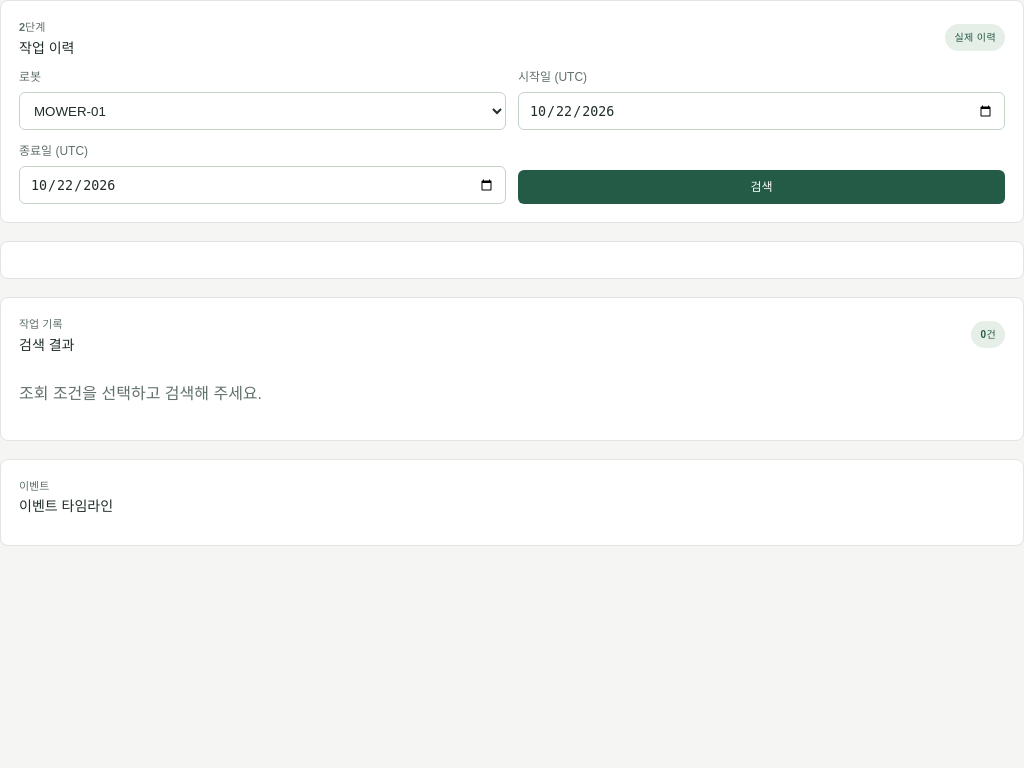
조회 오류와 빈 결과를 구분하고 재검색할 수 있다
Click the button "검색" at [762, 187], box [518, 170, 1005, 204]
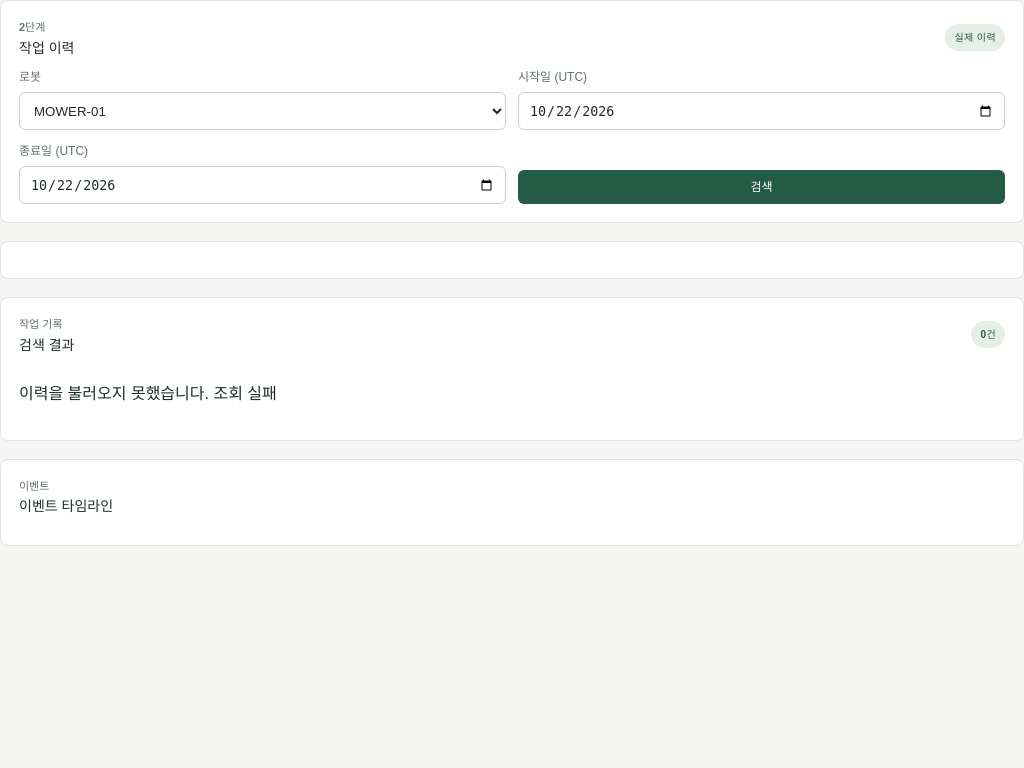
Expected: the text "선택한 조건에 맞는 작업 이력이 없습니다." is not shown
Result: the message shows "조회 실패" at [213, 385, 277, 402]
Click the button "검색" at [762, 187], box [518, 170, 1005, 204]
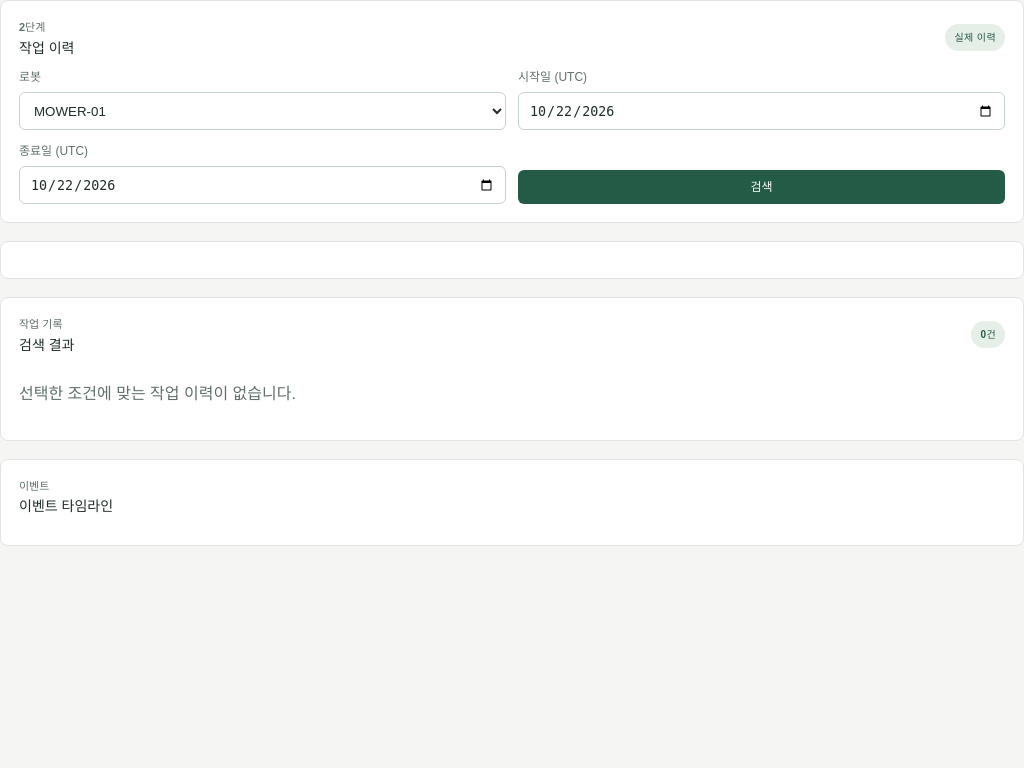
Result: the text "선택한 조건에 맞는 작업 이력이 없습니다." is shown at [19, 385, 296, 402]
Result: the message "이력을 불러오지 못했습니다. 조회 실패" is gone
